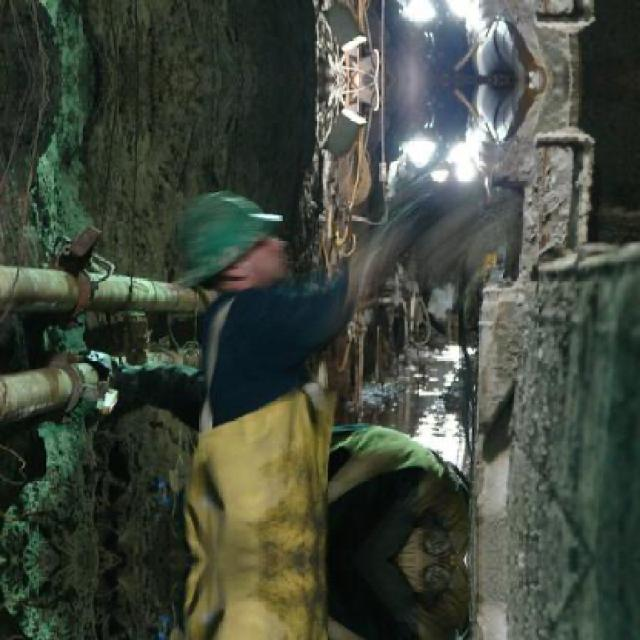con casco: (162, 170, 338, 337)
